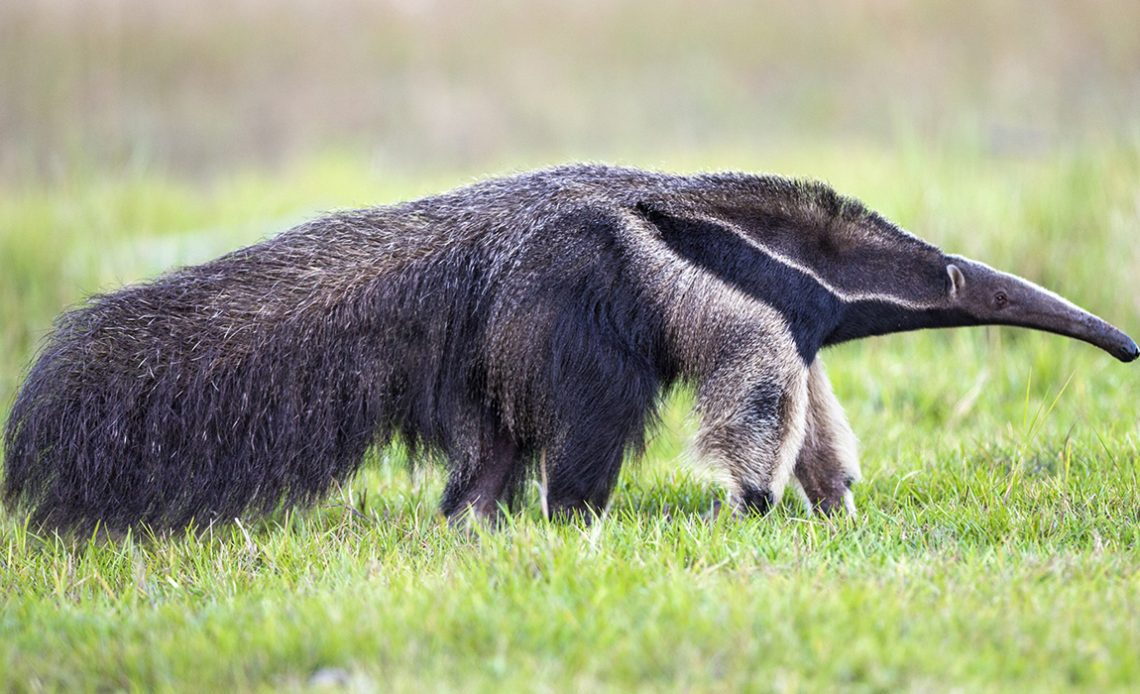TamanduaBandeira: (4, 149, 1128, 529)
